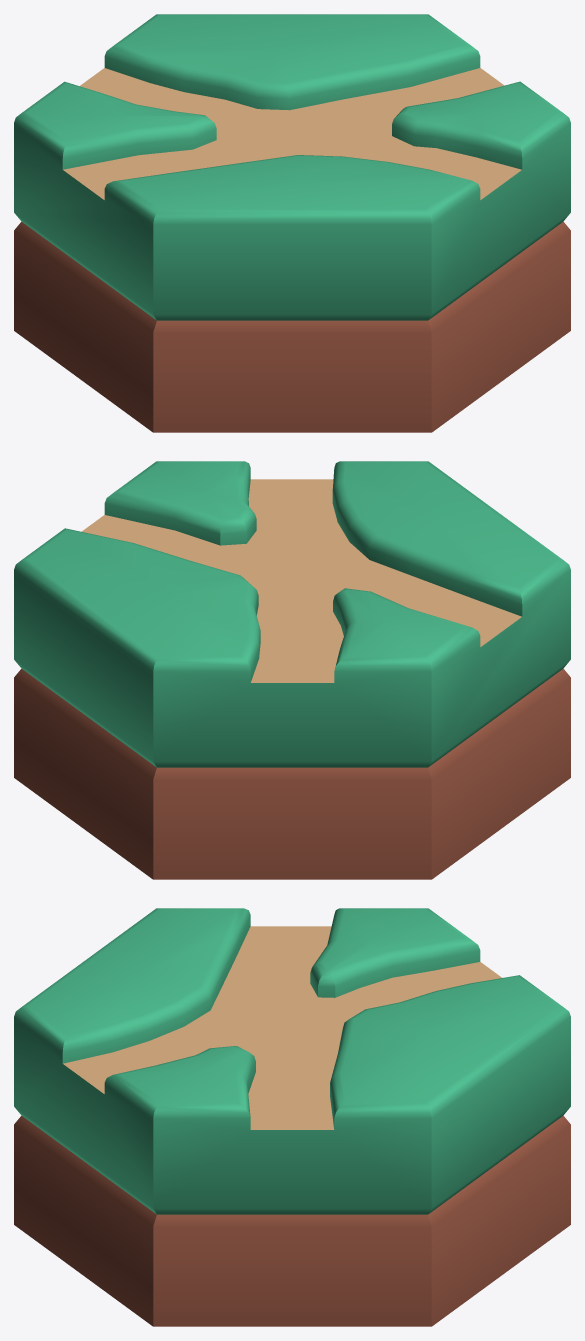
Rendered from hex_forest_roadJ_detail.glb.
3 views of the same model, one above another, from view 1: azimuth 30°, elevation 25°; view 2: azimuth 150°, elevation 25°; view 3: azimuth 270°, elevation 25° (orthographic).
Parts seen in each view (by area): view 1: hex_forest_roadJ_detail; view 2: hex_forest_roadJ_detail; view 3: hex_forest_roadJ_detail.
Boxes of the visible parts, x1,y1,x2,y2 form: hex_forest_roadJ_detail: [14, 14, 570, 432]; hex_forest_roadJ_detail: [14, 461, 570, 879]; hex_forest_roadJ_detail: [14, 908, 570, 1326].
Bounding box in the file's own units: 2 × 1 × 2.31.
